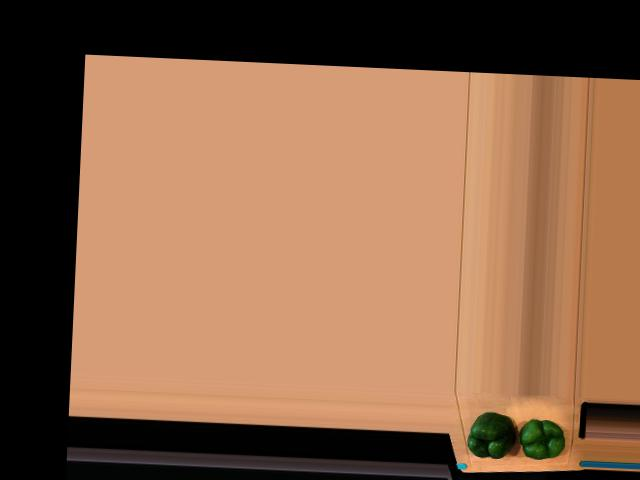bell_pepper: (517, 413, 565, 461)
